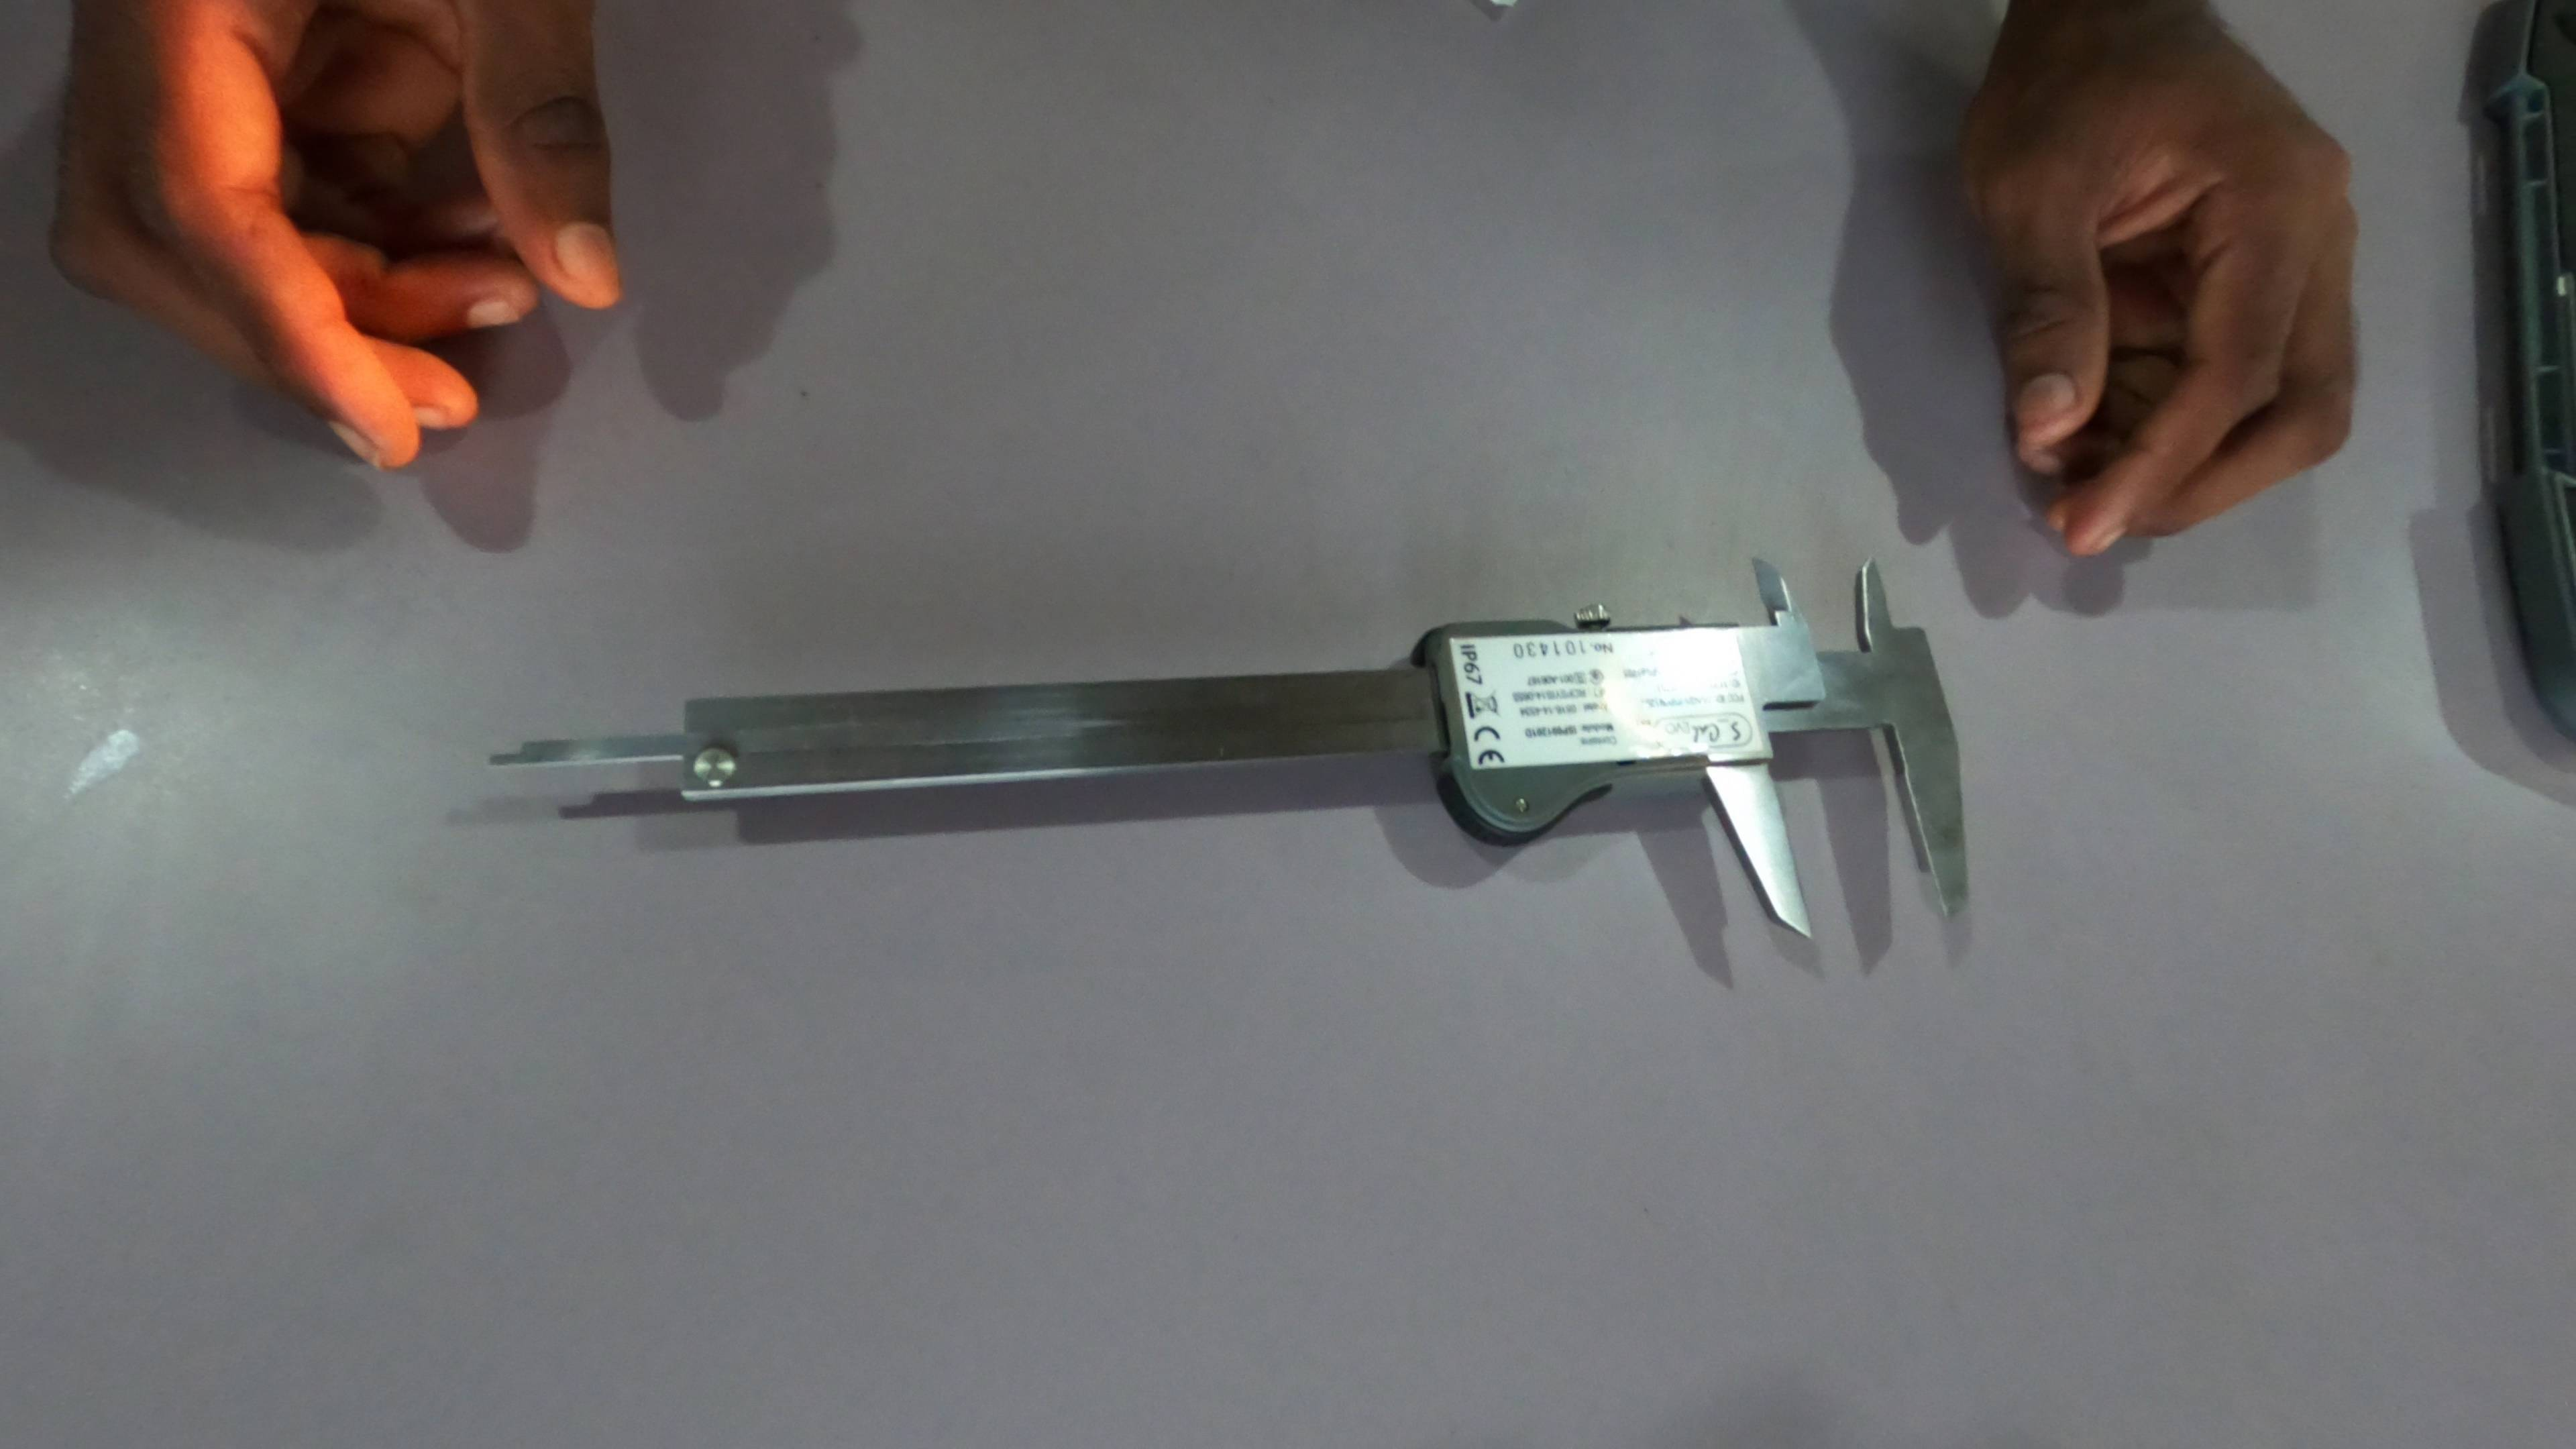vernier_caliper: (483, 545, 1978, 931)
